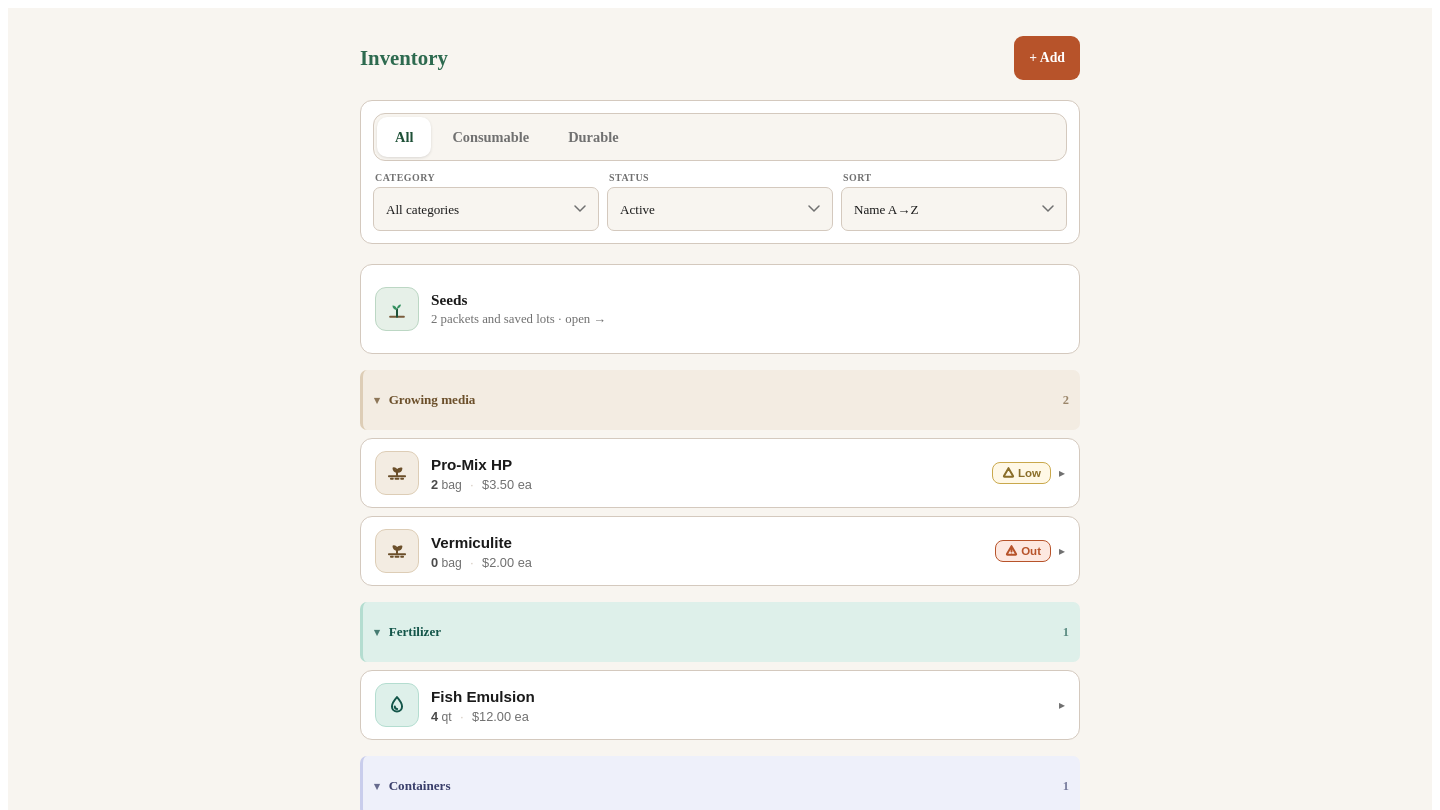
Test case: Inventory list — preserved behaviours › filters by status, and hides non-active items by default
Check: the heading "Inventory" is shown, box [360, 46, 448, 70]
Select "Retired" in the dropdown named "Status" at (720, 209), box [607, 187, 833, 231]
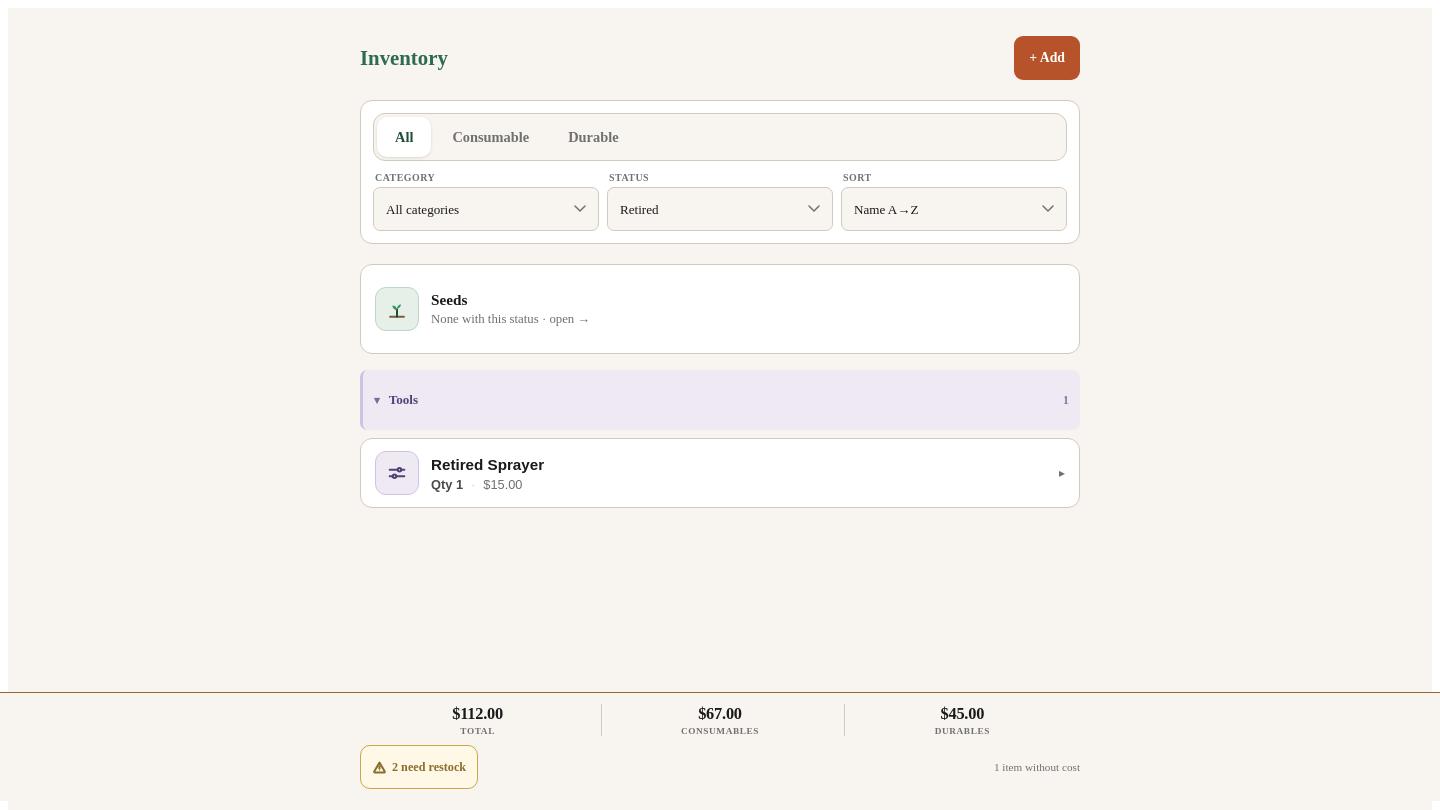
Check: the number of elements with test id "inv-row" is 1, box [360, 438, 1080, 508]
Select "All" in the dropdown named "Status" at (720, 209), box [607, 187, 833, 231]
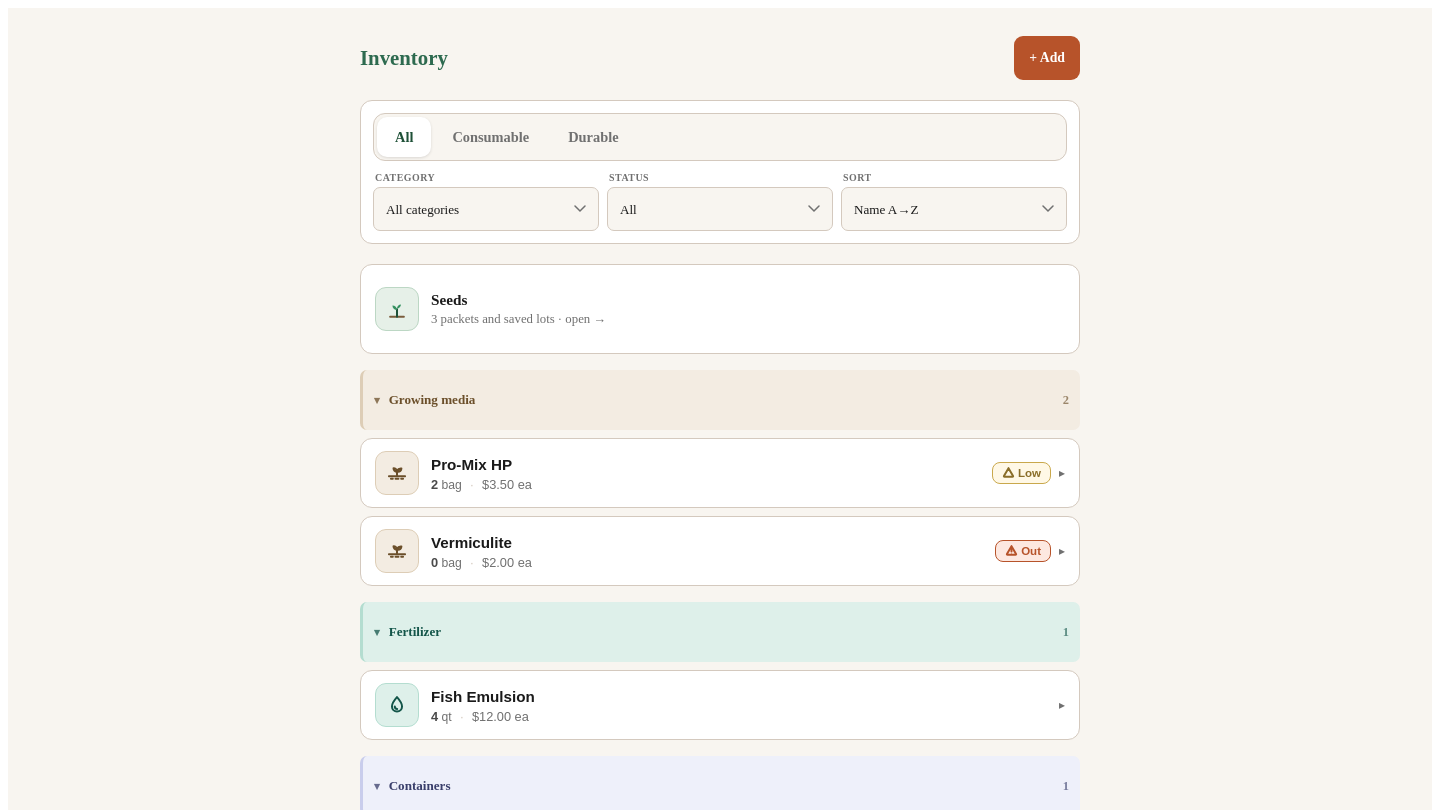
Check: the number of elements with test id "inv-row" is 6
